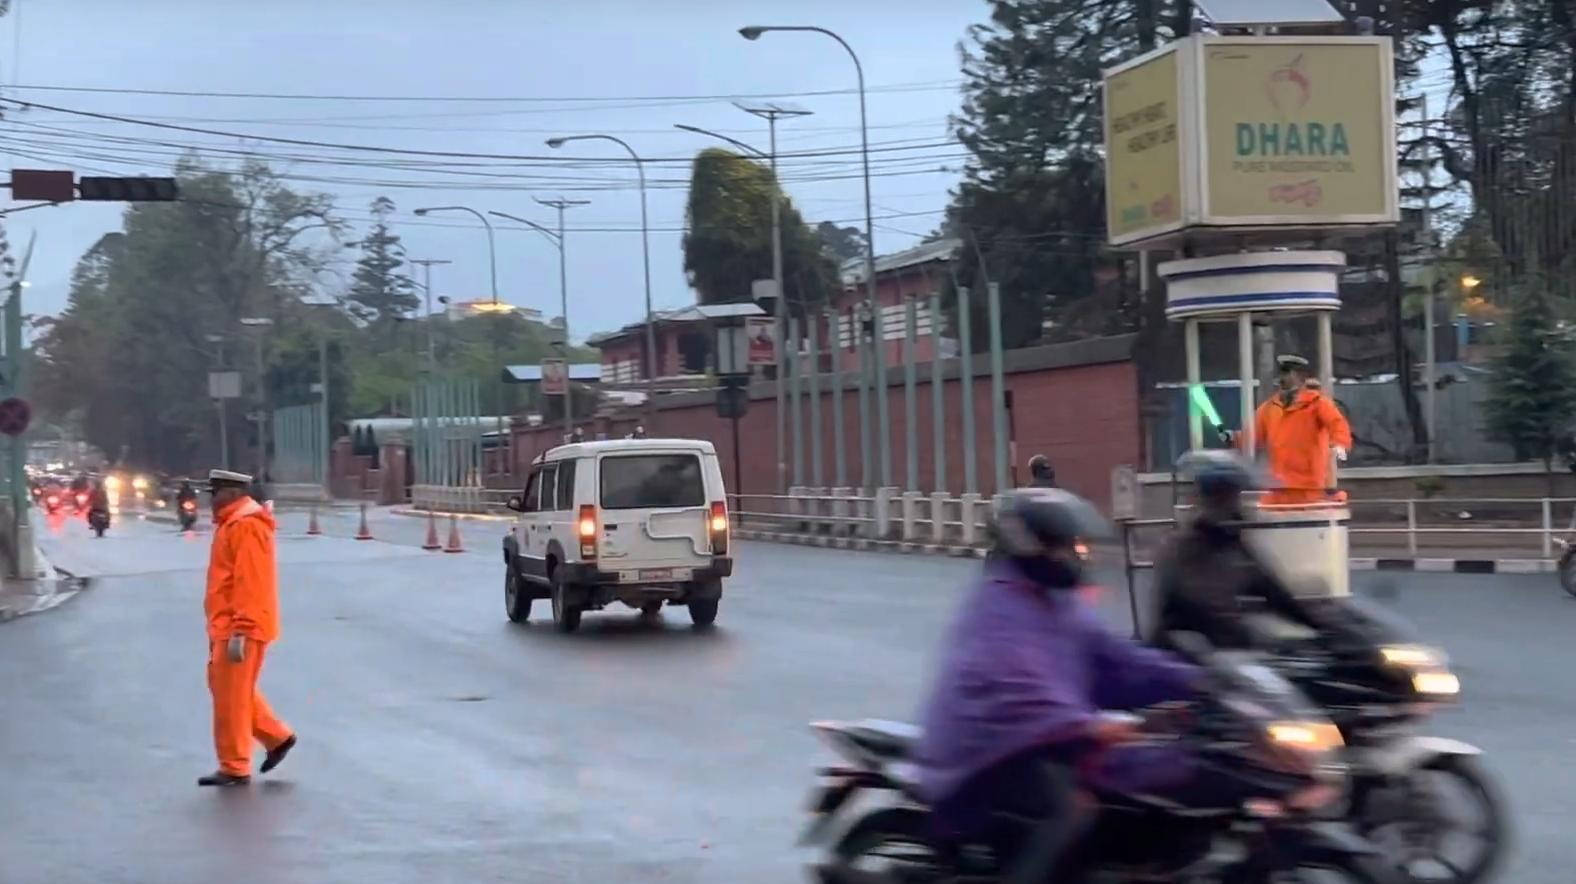ambulance: (489, 424, 739, 648)
